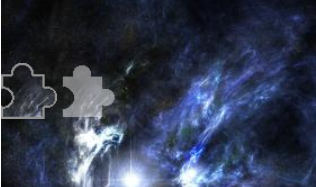target: (60, 62, 116, 120)
